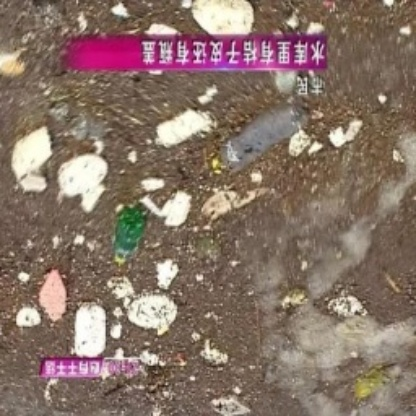bottle: (209, 101, 308, 178), (110, 209, 147, 267)
